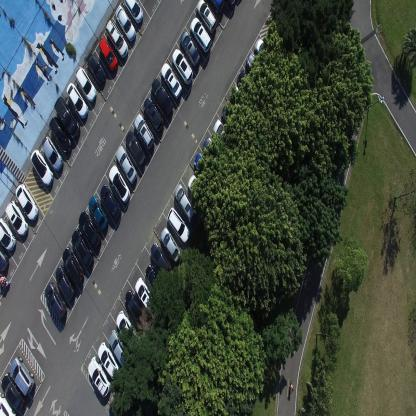car: (54, 96, 80, 139), (10, 355, 35, 396), (0, 372, 26, 411), (70, 227, 93, 270), (87, 356, 111, 397), (98, 340, 122, 380), (78, 209, 101, 250), (106, 18, 129, 59), (150, 76, 172, 118), (115, 145, 138, 185), (116, 310, 139, 350), (48, 116, 72, 154), (14, 183, 38, 221), (108, 164, 130, 205), (30, 148, 54, 185), (167, 207, 191, 244), (44, 281, 66, 321), (108, 329, 130, 369), (5, 199, 28, 237), (174, 184, 195, 225), (160, 61, 182, 100), (66, 82, 89, 119), (62, 246, 83, 286), (100, 184, 122, 222), (54, 264, 76, 302), (190, 16, 212, 54), (133, 114, 154, 153), (125, 130, 146, 169), (172, 47, 193, 86), (40, 135, 62, 172), (150, 242, 172, 279), (115, 4, 136, 42), (134, 277, 156, 313), (124, 290, 146, 326), (180, 29, 200, 68), (143, 97, 164, 134), (88, 194, 108, 232), (98, 36, 118, 74), (213, 117, 234, 153), (76, 66, 96, 103), (160, 226, 180, 263), (254, 36, 275, 70), (193, 153, 214, 187), (202, 136, 221, 173), (85, 52, 105, 86), (196, 0, 216, 34), (145, 264, 164, 298), (0, 216, 17, 252), (237, 69, 256, 101), (246, 51, 264, 84), (229, 85, 247, 117), (187, 175, 206, 205), (222, 104, 239, 132), (123, 0, 143, 23), (0, 392, 16, 415), (207, 0, 226, 18), (0, 247, 9, 273), (226, 0, 236, 12)
